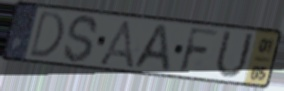A: (95, 18, 137, 71), (130, 22, 172, 75)
D: (27, 9, 66, 60)
F: (176, 26, 222, 76)
S: (61, 13, 100, 65)
U: (212, 28, 257, 82)
